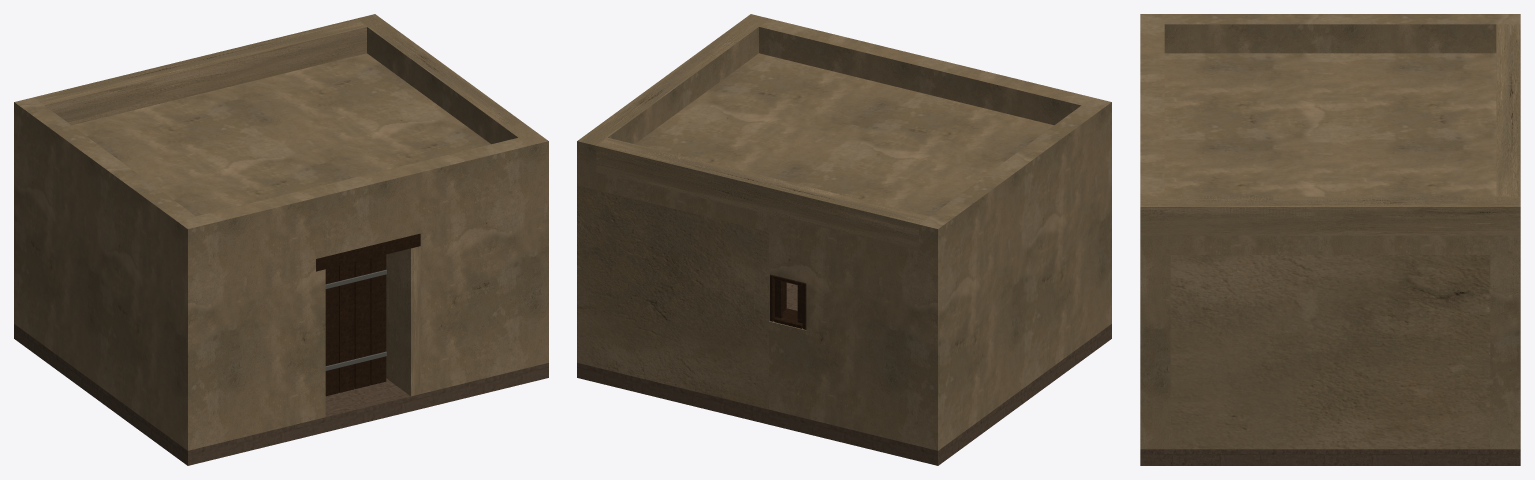
Rendered from d_poor_home_6x5.glb.
3 renders of one model, left to right at view 1: azimuth 30°, elevation 25°; view 2: azimuth 150°, elevation 25°; view 3: azimuth 270°, elevation 25°, orthographic. The views are drawn at different scales.
Parts seen in each view (by area): view 1: front adobe pier, end parapet-colonly.001, model floor, entry reveal-colonly.001, side parapet-colonly.001, Door entry plank.003, Door entry plank.004, Door entry plank.002, Door entry plank.001, structural timber lintel; view 2: front adobe pier, rear adobe pier-colonly.001, end parapet-colonly.001, model floor, side parapet-colonly.001, structural timber lintel; view 3: front adobe pier, side adobe wall-colonly.001, side parapet-colonly.001, model floor, end parapet-colonly.001, rear adobe pier-colonly.001, front adobe pier-colonly.001.
Part boxes in pixels (x1=…): front adobe pier: x1=14, y1=14, x2=548, y2=450; end parapet-colonly.001: x1=34, y1=18, x2=366, y2=125; model floor: x1=14, y1=324, x2=548, y2=465; entry reveal-colonly.001: x1=386, y1=246, x2=420, y2=396; side parapet-colonly.001: x1=356, y1=14, x2=540, y2=145; Door entry plank.003: x1=354, y1=258, x2=370, y2=388; Door entry plank.004: x1=370, y1=254, x2=386, y2=384; Door entry plank.002: x1=339, y1=262, x2=354, y2=392; Door entry plank.001: x1=325, y1=266, x2=338, y2=396; structural timber lintel: x1=316, y1=233, x2=420, y2=271; front adobe pier: x1=577, y1=14, x2=1111, y2=450; rear adobe pier-colonly.001: x1=577, y1=185, x2=768, y2=409; end parapet-colonly.001: x1=596, y1=137, x2=929, y2=250; model floor: x1=577, y1=282, x2=1111, y2=465; side parapet-colonly.001: x1=577, y1=14, x2=769, y2=145; structural timber lintel: x1=769, y1=274, x2=806, y2=329; front adobe pier: x1=1140, y1=14, x2=1520, y2=449; side adobe wall-colonly.001: x1=1170, y1=255, x2=1490, y2=449; side parapet-colonly.001: x1=1140, y1=196, x2=1520, y2=235; model floor: x1=1140, y1=449, x2=1520, y2=465; end parapet-colonly.001: x1=1496, y1=24, x2=1520, y2=196; rear adobe pier-colonly.001: x1=1490, y1=255, x2=1520, y2=449; front adobe pier-colonly.001: x1=1140, y1=255, x2=1170, y2=449.
Size of what is drawn, in the model's own units: 6 by 3.76 by 5.
7 materials, 4 textured.
